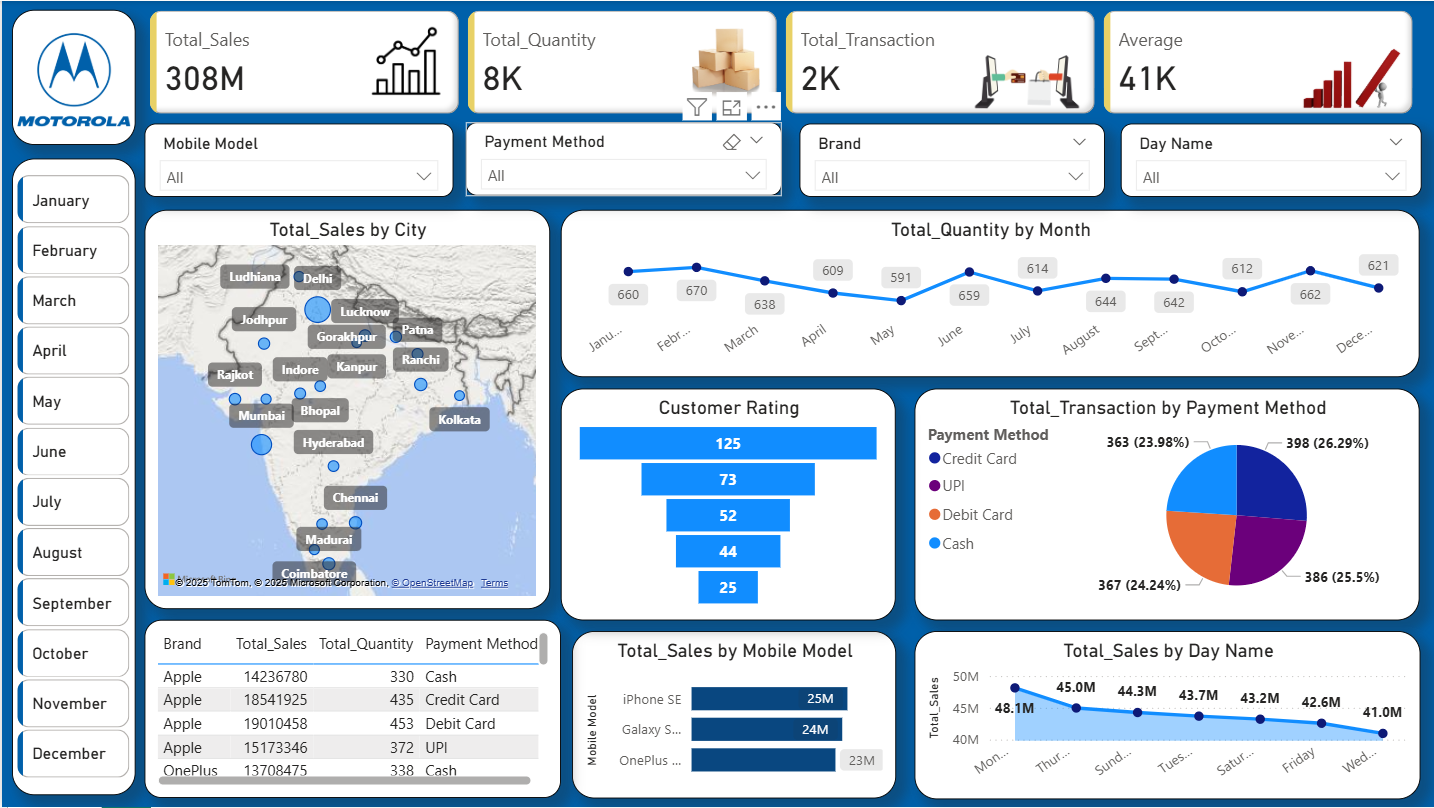

Layout of this report page (visuals, bound fields, positions):
{"tool":"powerbi","page":{"name":"Page 1","canvas":[1280,720],"ordinal":0},"visuals":[{"type":"shape","box":[9.3,8.1,110.5,120.9],"z":0},{"type":"image","box":[9.3,0,110.5,140.7],"z":1000},{"type":"shape","box":[9.3,140.7,110.5,568.6],"z":2000},{"type":"advancedSlicerVisual","fields":{"Values":["Sheet1.date.Variation.Date Hierarchy.Month"]},"box":[9.3,151.2,110.5,558.1],"z":3000},{"type":"cardVisual","fields":{"Data":["Sheet1.Total_Sales","Sheet1.Total_Quantity","Sheet1.Total_Transaction","Sheet1.Average"]},"box":[127.6,8.2,1138.9,108.4],"z":4000},{"type":"map","fields":{"Category":["Sheet1.City"],"Size":["Sheet1.Total_Sales"]},"box":[127.6,186.6,362.3,356.8],"z":5000},{"type":"lineChart","fields":{"Category":["Sheet1.date.Variation.Date Hierarchy.Month","Sheet1.date.Variation.Date Hierarchy.Day"],"Y":["Sheet1.Total_Quantity"]},"box":[499.5,186.6,767.1,149.6],"z":6000},{"type":"clusteredBarChart","fields":{"Category":["Sheet1.Mobile Model"],"Y":["Sheet1.Total_Sales"]},"box":[509.1,562.6,289.5,149.6],"z":7000},{"type":"pieChart","fields":{"Category":["Sheet1.Payment Method"],"Y":["Sheet1.Total_Transaction"]},"box":[815.1,345.8,451.5,207.2],"z":8000},{"type":"funnel","title":"Customer Rating","fields":{"Category":["Sheet1.Customer Ratings"],"Y":["CountNonNull(Sheet1.Customer Ratings)"]},"box":[499.5,345.8,299.1,207.2],"z":9000},{"type":"areaChart","fields":{"Y":["Sheet1.Total_Sales"],"Category":["Sheet1.Day Name"]},"box":[815.1,562.8,452.3,150],"z":10000},{"type":"tableEx","fields":{"Values":["Sheet1.Brand","Sheet1.Total_Sales","Sheet1.Total_Quantity","Sheet1.Payment Method"]},"box":[127.6,553,371.9,159.2],"z":11000},{"type":"slicer","fields":{"Values":["Sheet1.Mobile Model"]},"box":[127.6,109.8,275.8,65.9],"z":12000},{"type":"slicer","fields":{"Values":["Sheet1.Payment Method"]},"box":[414.4,108.4,282.7,65.9],"z":12001},{"type":"slicer","fields":{"Values":["Sheet1.Brand"]},"box":[712.2,109.8,273.1,65.9],"z":12002},{"type":"slicer","fields":{"Values":["Sheet1.Day Name"]},"box":[999,109.8,269,65.9],"z":12003}]}

Visuals, with their boxes in screenshot pixels (x1, y1, x2, y2), scaled from the page's 1280x720 canvas onto the 1434x808 screenshot:
shape: crop(10, 9, 134, 145)
image: crop(10, 0, 134, 158)
shape: crop(10, 158, 134, 796)
advancedSlicerVisual - Sheet1.date.Variation.Date Hierarchy.Month: crop(10, 170, 134, 796)
cardVisual - Sheet1.Total_Sales x Sheet1.Total_Quantity: crop(143, 9, 1419, 131)
map - Sheet1.City x Sheet1.Total_Sales: crop(143, 209, 549, 610)
lineChart - Sheet1.date.Variation.Date Hierarchy.Month x Sheet1.date.Variation.Date Hierarchy.Day: crop(560, 209, 1419, 377)
clusteredBarChart - Sheet1.Mobile Model x Sheet1.Total_Sales: crop(570, 631, 895, 799)
pieChart - Sheet1.Payment Method x Sheet1.Total_Transaction: crop(913, 388, 1419, 621)
"Customer Rating" funnel: crop(560, 388, 895, 621)
areaChart - Sheet1.Total_Sales x Sheet1.Day Name: crop(913, 632, 1420, 800)
tableEx - Sheet1.Brand x Sheet1.Total_Sales: crop(143, 621, 560, 799)
slicer - Sheet1.Mobile Model: crop(143, 123, 452, 197)
slicer - Sheet1.Payment Method: crop(464, 122, 781, 196)
slicer - Sheet1.Brand: crop(798, 123, 1104, 197)
slicer - Sheet1.Day Name: crop(1119, 123, 1421, 197)
